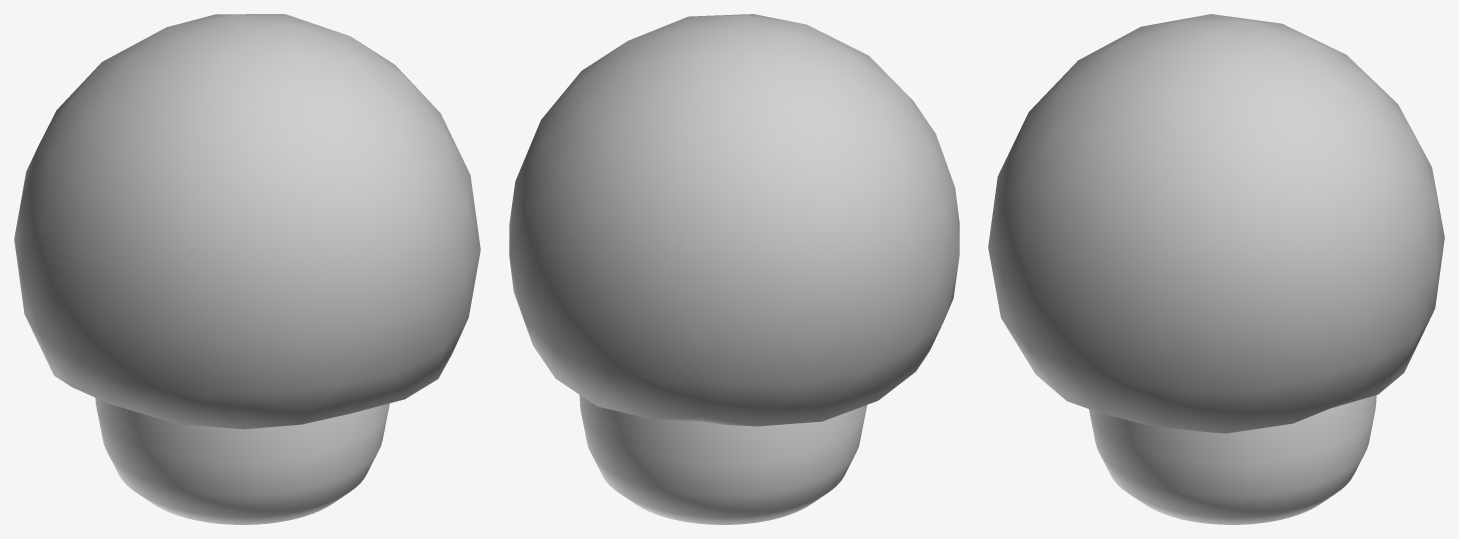
File: hongobien.fbx
3 renders of one model, left to right at view 1: azimuth 30°, elevation 25°; view 2: azimuth 150°, elevation 25°; view 3: azimuth 270°, elevation 25°, orthographic. The views are drawn at different scales.
Parts seen in each view (by area): view 1: cabeza hongo.005, cuerpo hongo.005; view 2: cabeza hongo.005, cuerpo hongo.005; view 3: cabeza hongo.005, cuerpo hongo.005.
Part boxes in pixels (box(x1,y1,x2,y2)): cabeza hongo.005: box(14, 14, 480, 429); cuerpo hongo.005: box(95, 397, 389, 524); cabeza hongo.005: box(509, 14, 959, 426); cuerpo hongo.005: box(579, 395, 866, 524); cabeza hongo.005: box(988, 14, 1444, 433); cuerpo hongo.005: box(1089, 395, 1376, 524).
Bounding box in the file's own units: 310 × 341 × 310.
